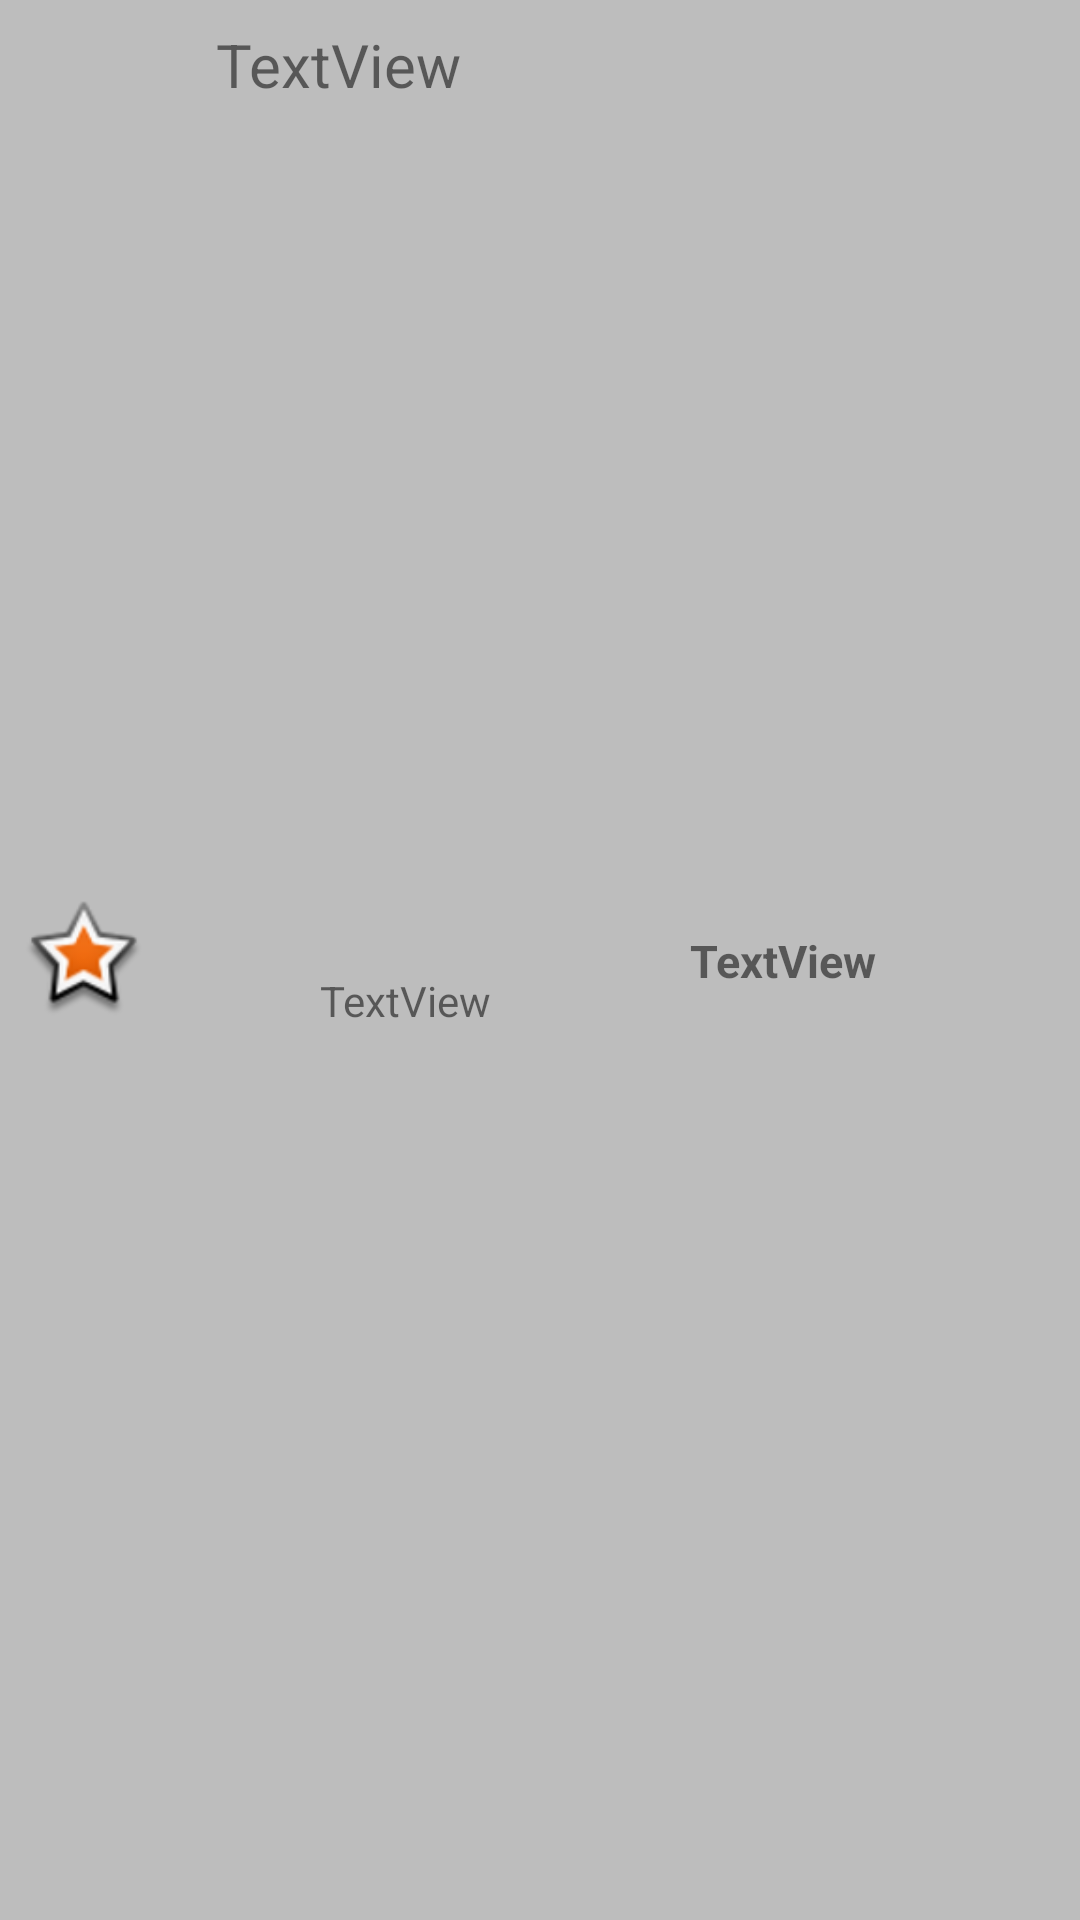

Icons on this 1080w x 1920h Android screen, each with its box as (x1, y1, x2, y2):
star on: (31, 902, 137, 1009)
